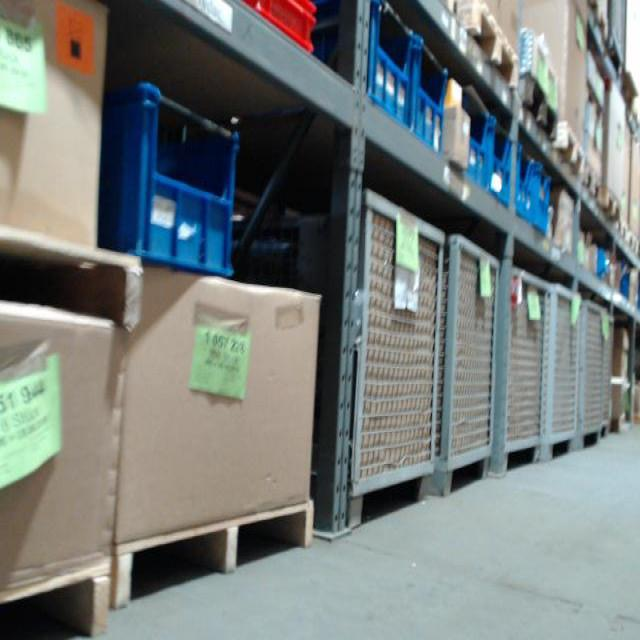pallet: (112, 496, 316, 611), (2, 221, 135, 332), (2, 554, 114, 637), (449, 3, 520, 93), (515, 73, 559, 145), (550, 119, 585, 183), (581, 163, 603, 208), (599, 190, 624, 228)
small_load_carrier: (102, 75, 242, 277), (303, 1, 416, 133), (404, 31, 456, 151), (453, 92, 496, 191), (235, 2, 317, 53), (514, 139, 541, 233), (487, 125, 518, 205), (532, 166, 555, 240)
stillage: (276, 183, 446, 535), (439, 223, 500, 501), (500, 261, 548, 484), (545, 279, 580, 468), (578, 295, 602, 462), (603, 310, 618, 442)
